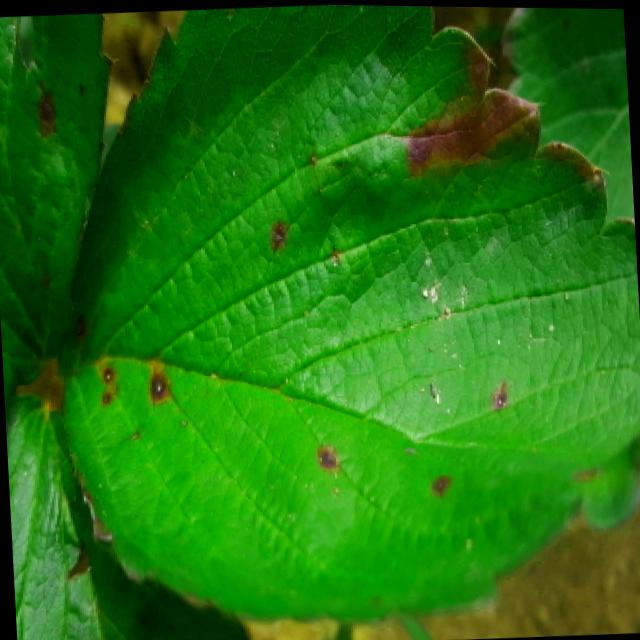Leaf Spot: (50, 4, 640, 623), (4, 377, 250, 640), (0, 12, 113, 408), (498, 6, 635, 218)
